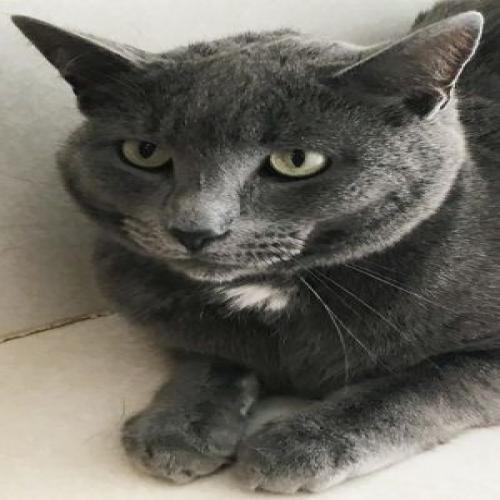rblue: (5, 2, 492, 297)
